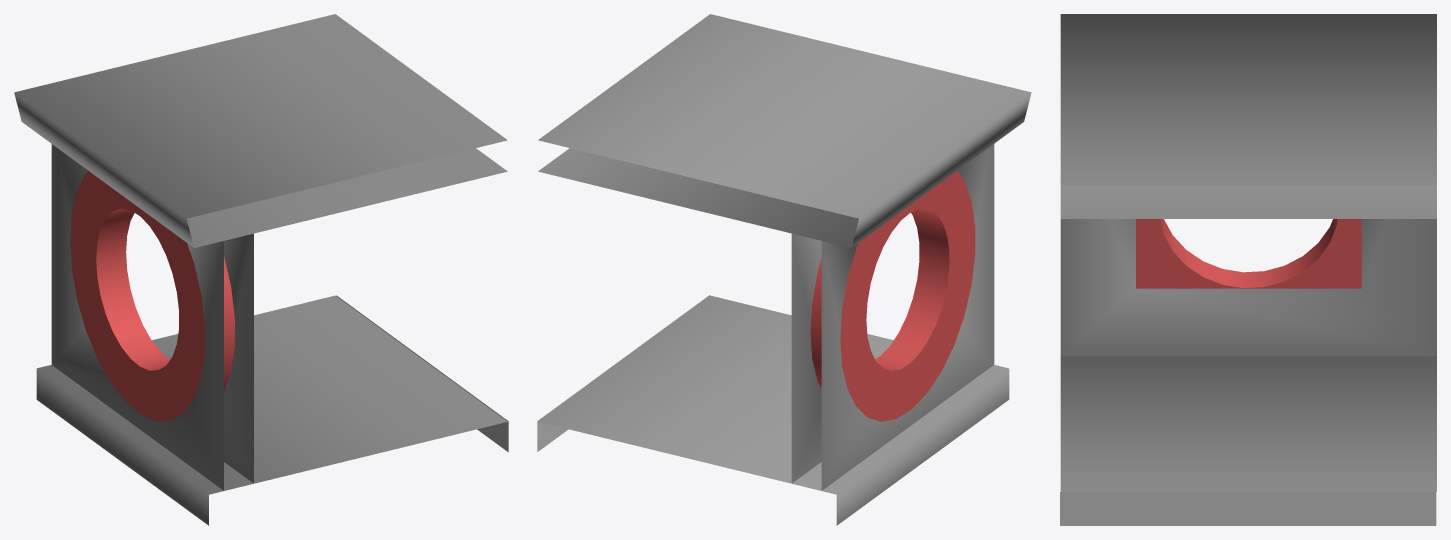
3 views of the same model, side by side, from view 1: azimuth 30°, elevation 25°; view 2: azimuth 150°, elevation 25°; view 3: azimuth 270°, elevation 25° (orthographic). The views are drawn at different scales.
Visible parts, largest first — view 1: objobjobjRegroup09; view 2: objobjobjRegroup09; view 3: objobjobjRegroup09.
Boxes of the visible parts, x1,y1,x2,y2 form: objobjobjRegroup09: [14, 14, 508, 525]; objobjobjRegroup09: [537, 14, 1031, 525]; objobjobjRegroup09: [1060, 14, 1436, 525].
Bounding box in the file's own units: 10.77 × 10 × 10.01.
